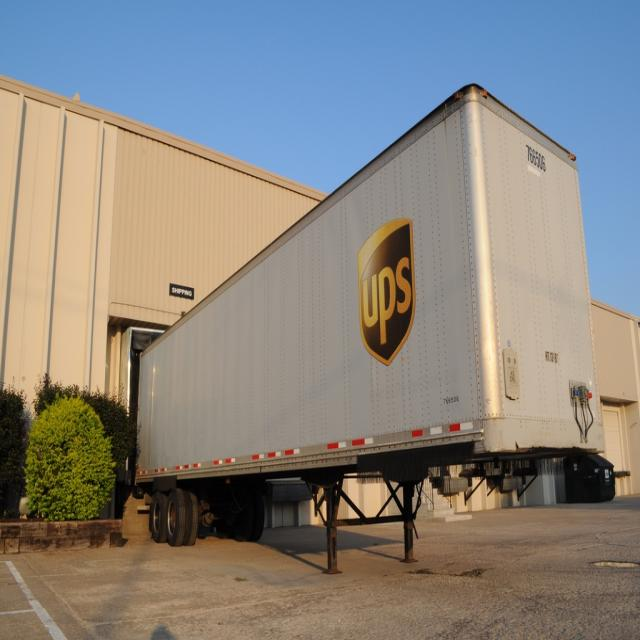ups: (356, 218, 417, 367)
